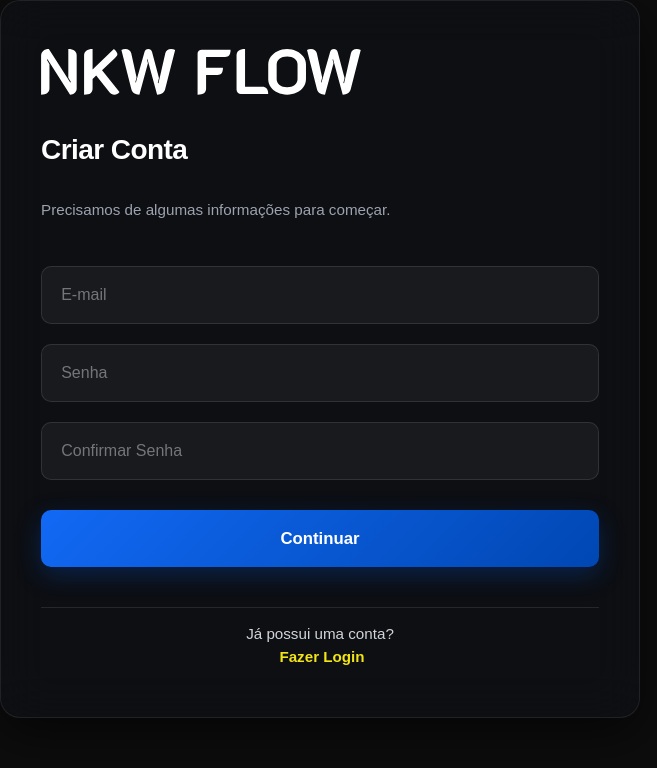
RegisterForm › deve mostrar erro se as senhas não coincidirem no step 1
Step 1. Type "teste@teste.com" into the field with placeholder "E-mail" → [320, 295], box [41,266,599,324]
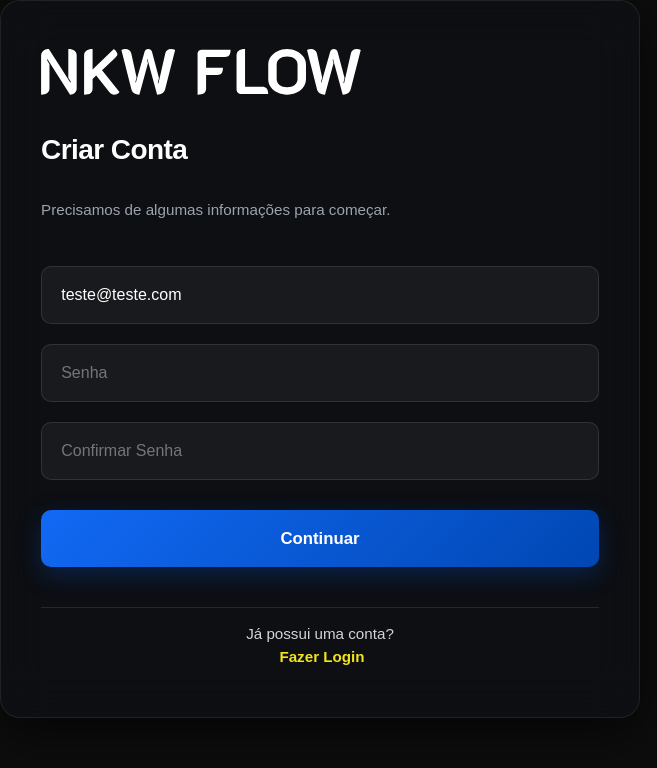
Step 2. Type "123456" into the password field with placeholder "Senha" → [320, 373], box [41,344,599,402]
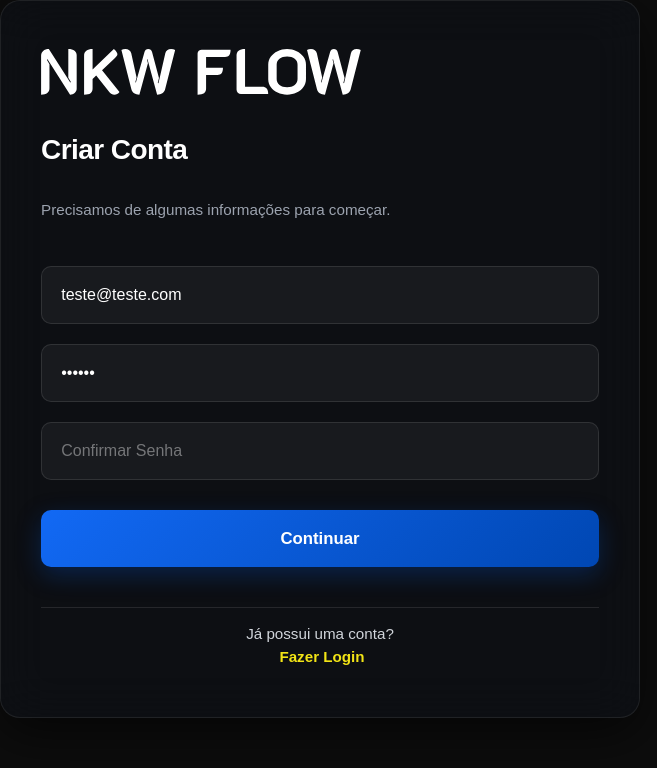
Step 3. Type "1234567" into the password field with placeholder "Confirmar Senha" → [320, 451], box [41,422,599,480]
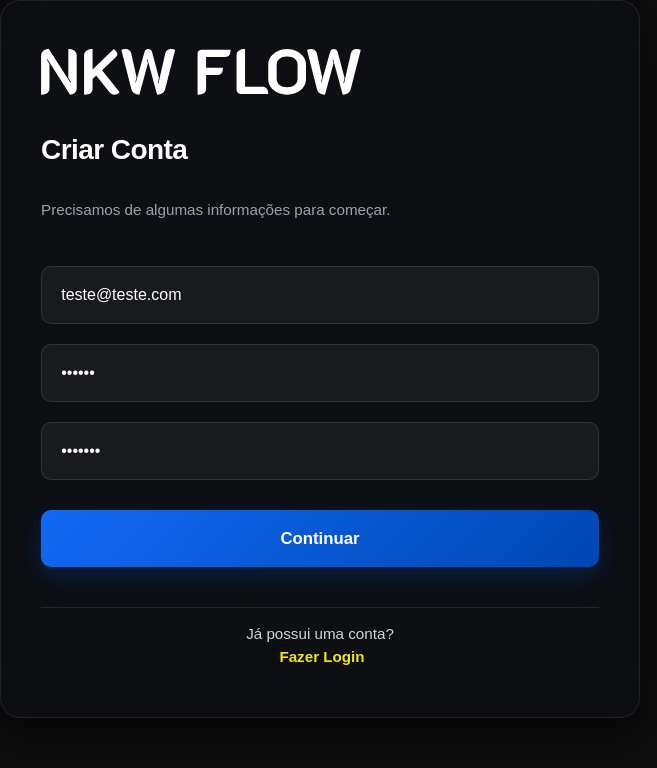
Step 4. Click the button "Continuar" → [320, 538], box [41,510,599,567]
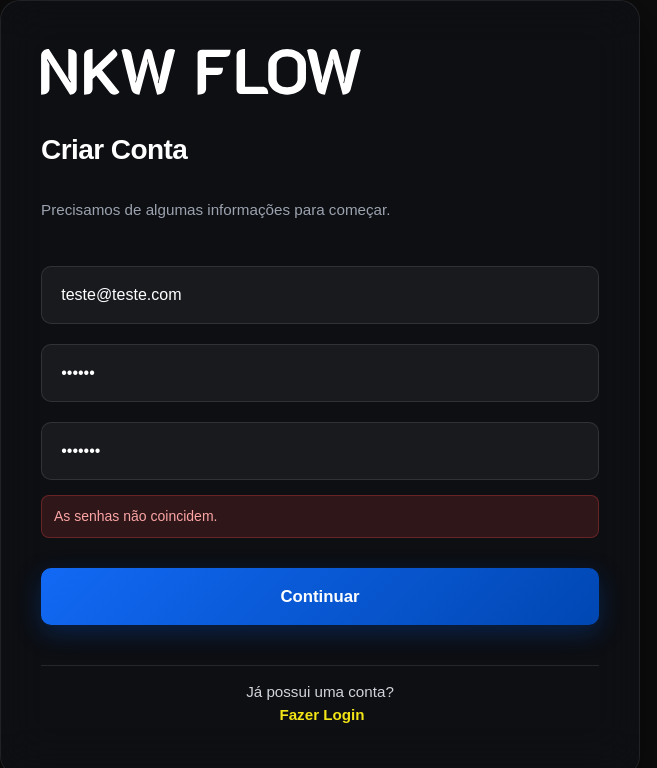
Expected: the text "As senhas não coincidem." is shown, [41,495,599,538]
